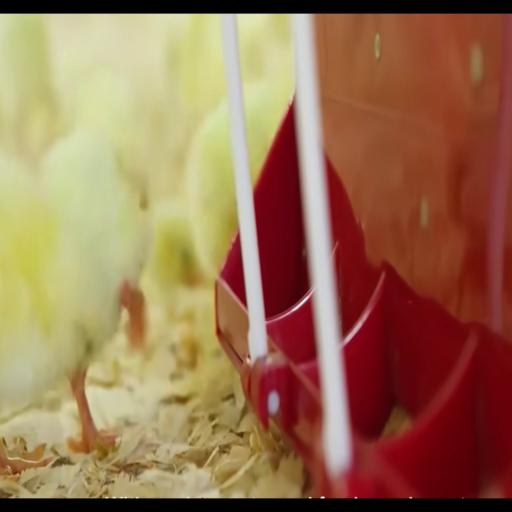chick: (40, 131, 150, 451)
